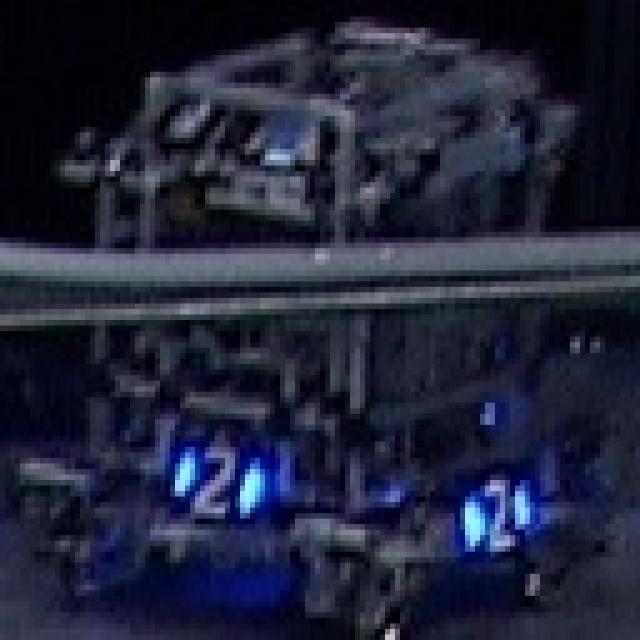B2: (170, 436, 265, 518), (455, 474, 530, 558)
